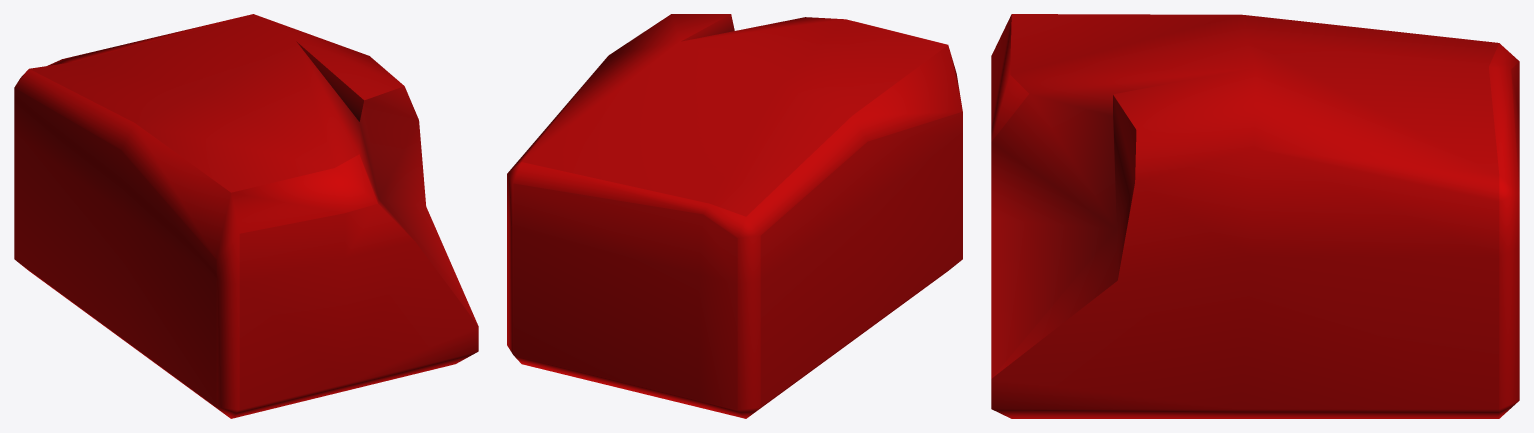
Rendered from buildings-ruins-ancientruins_v8.fbx.
The picture shows the model from 3 angles, left to right: view 1: azimuth 30°, elevation 25°; view 2: azimuth 150°, elevation 25°; view 3: azimuth 270°, elevation 25°; orthographic projection. The views are drawn at different scales.
Parts seen in each view (by area): view 1: AncientRuins_v8; view 2: AncientRuins_v8; view 3: AncientRuins_v8.
Boxes of the visible parts, <box> form: AncientRuins_v8: <box>14,14,478,418</box>; AncientRuins_v8: <box>507,14,962,418</box>; AncientRuins_v8: <box>991,14,1519,418</box>.
Bounding box in the file's own units: 2.62 × 2.6 × 3.92.
